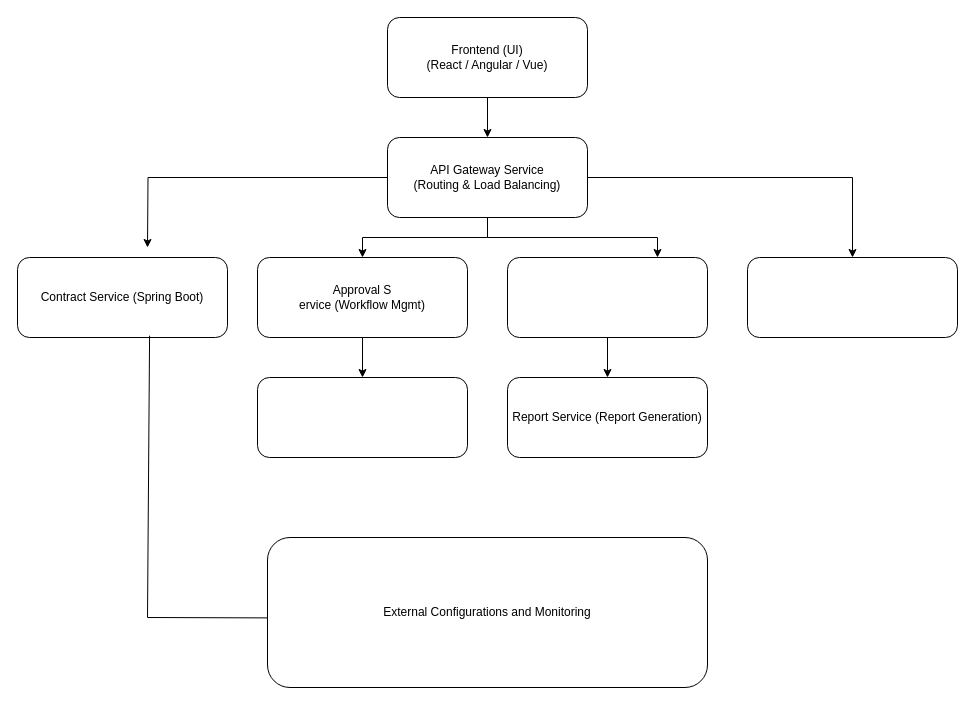
Some shapes in this 975 by 705 pixel diagram are drawn without their labels. The box of each missing label's shape, as (x1, y1, x2, y2) in pixels:
Audit Service (Audit Logs): (746, 256, 958, 338)
Document Service (Storage/Versioning): (256, 376, 468, 458)
Search Service (Full-text): (506, 256, 708, 338)
